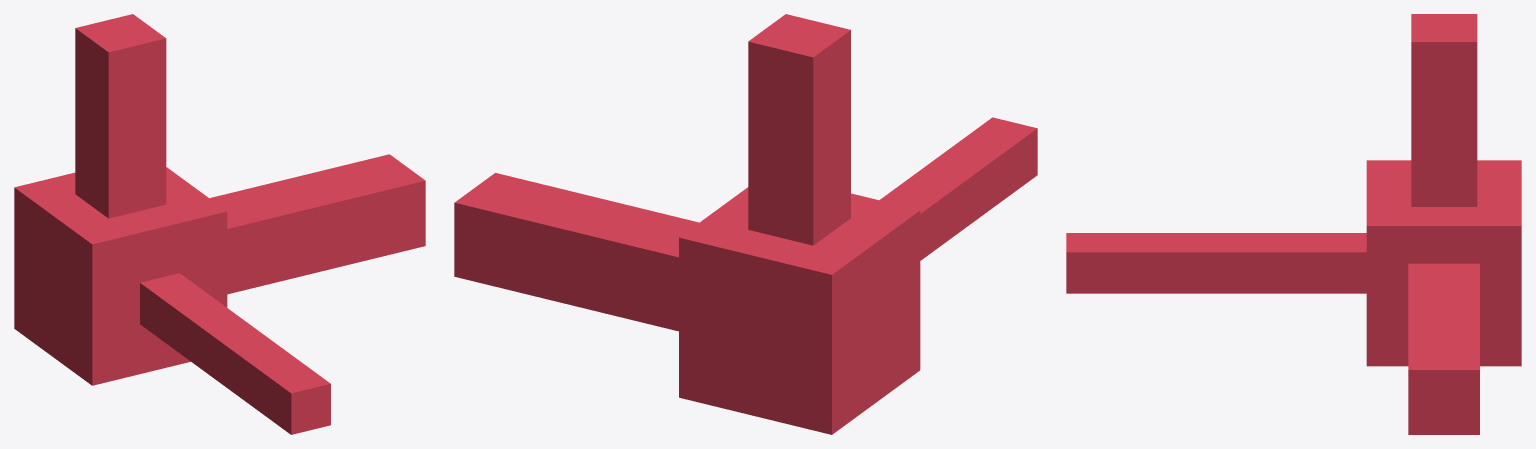
File: thingy.gltf
3 renders of one model, left to right at view 1: azimuth 30°, elevation 25°; view 2: azimuth 150°, elevation 25°; view 3: azimuth 270°, elevation 25°, orthographic. The views are drawn at different scales.
Visible parts, largest first — view 1: Cube; view 2: Cube; view 3: Cube.
Part boxes in pixels (box(x1,y1,x2,y2)): Cube: box(14, 14, 425, 434); Cube: box(454, 14, 1037, 434); Cube: box(1066, 14, 1521, 434).
Size of the model in its own units: 5.25 by 4.35 by 5.88.
